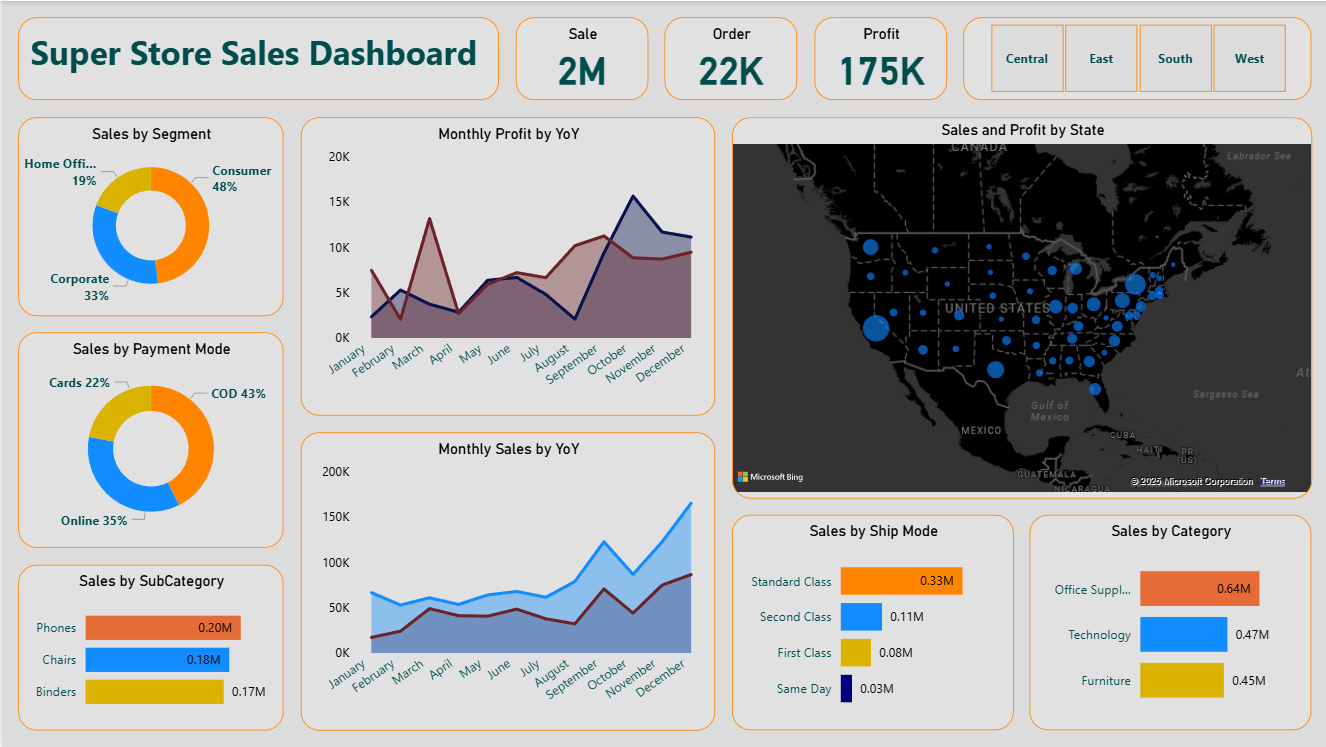

The page's visual inventory and layout, read from the dashboard file:
{"tool":"powerbi","page":{"name":"Page 1","canvas":[1280,720],"ordinal":0},"visuals":[{"type":"clusteredBarChart","title":"Sales by Category","fields":{"Category":["SuperStore_Sales_Dataset.Category"],"Y":["Sum(SuperStore_Sales_Dataset.Sales)"]},"box":[992,496,272,208],"z":0},{"type":"clusteredBarChart","title":"Sales by SubCategory","fields":{"Category":["SuperStore_Sales_Dataset.Sub-Category"],"Y":["Sum(SuperStore_Sales_Dataset.Sales)"]},"box":[16,544,256,160],"z":1000},{"type":"clusteredBarChart","title":"Sales by Ship Mode","fields":{"Category":["SuperStore_Sales_Dataset.Ship Mode"],"Y":["Sum(SuperStore_Sales_Dataset.Sales)"]},"box":[704,496,272,208],"z":2000},{"type":"areaChart","title":"Monthly Sales by YoY","fields":{"Y":["Sum(SuperStore_Sales_Dataset.Sales)"],"Category":["SuperStore_Sales_Dataset.Ship Date.Variation.Date Hierarchy.Month","SuperStore_Sales_Dataset.Ship Date.Variation.Date Hierarchy.Day"],"Series":["SuperStore_Sales_Dataset.Order Date.Variation.Date Hierarchy.Year"]},"box":[288,416,400,288],"z":3000},{"type":"areaChart","title":"Monthly Profit by YoY","fields":{"Category":["SuperStore_Sales_Dataset.Ship Date.Variation.Date Hierarchy.Month"],"Series":["SuperStore_Sales_Dataset.Order Date.Variation.Date Hierarchy.Year"],"Y":["Sum(SuperStore_Sales_Dataset.Profit)"]},"box":[288,112,400,288],"z":4000},{"type":"map","title":"Sales and  Profit by State","fields":{"Category":["SuperStore_Sales_Dataset.State"],"Size":["Sum(SuperStore_Sales_Dataset.Sales)"]},"box":[704,112,560,368],"z":5000},{"type":"donutChart","title":"Sales by Segment","fields":{"Category":["SuperStore_Sales_Dataset.Segment"],"Y":["Sum(SuperStore_Sales_Dataset.Sales)"]},"box":[16,112,256,192],"z":6000},{"type":"donutChart","title":"Sales by Payment Mode","fields":{"Category":["SuperStore_Sales_Dataset.Payment Mode"],"Y":["Sum(SuperStore_Sales_Dataset.Sales)"]},"box":[16,320,256,208],"z":7000},{"type":"slicer","fields":{"Values":["SuperStore_Sales_Dataset.Region"]},"box":[928,16,336,80],"z":8000},{"type":"textbox","box":[16,16,464,80],"z":9000},{"type":"card","title":"Sale","fields":{"Values":["Sum(SuperStore_Sales_Dataset.Sales)"]},"box":[496,16,128,80],"z":10000},{"type":"card","title":"Order","fields":{"Values":["Sum(SuperStore_Sales_Dataset.Quantity)"]},"box":[640,16,128,80],"z":11000},{"type":"card","title":"Profit","fields":{"Values":["Sum(SuperStore_Sales_Dataset.Profit)"]},"box":[784,16,128,80],"z":12000}]}

Visuals, with their boxes in screenshot pixels (x1, y1, x2, y2), scaled from the page's 1280x720 canvas onto the 1326x747 screenshot:
"Sales by Category" clusteredBarChart: [x1=1028, y1=515, x2=1309, y2=730]
"Sales by SubCategory" clusteredBarChart: [x1=17, y1=564, x2=282, y2=730]
"Sales by Ship Mode" clusteredBarChart: [x1=729, y1=515, x2=1011, y2=730]
"Monthly Sales by YoY" areaChart: [x1=298, y1=432, x2=713, y2=730]
"Monthly Profit by YoY" areaChart: [x1=298, y1=116, x2=713, y2=415]
"Sales and  Profit by State" map: [x1=729, y1=116, x2=1309, y2=498]
"Sales by Segment" donutChart: [x1=17, y1=116, x2=282, y2=315]
"Sales by Payment Mode" donutChart: [x1=17, y1=332, x2=282, y2=548]
slicer - SuperStore_Sales_Dataset.Region: [x1=961, y1=17, x2=1309, y2=100]
textbox: [x1=17, y1=17, x2=497, y2=100]
"Sale" card: [x1=514, y1=17, x2=646, y2=100]
"Order" card: [x1=663, y1=17, x2=796, y2=100]
"Profit" card: [x1=812, y1=17, x2=945, y2=100]
